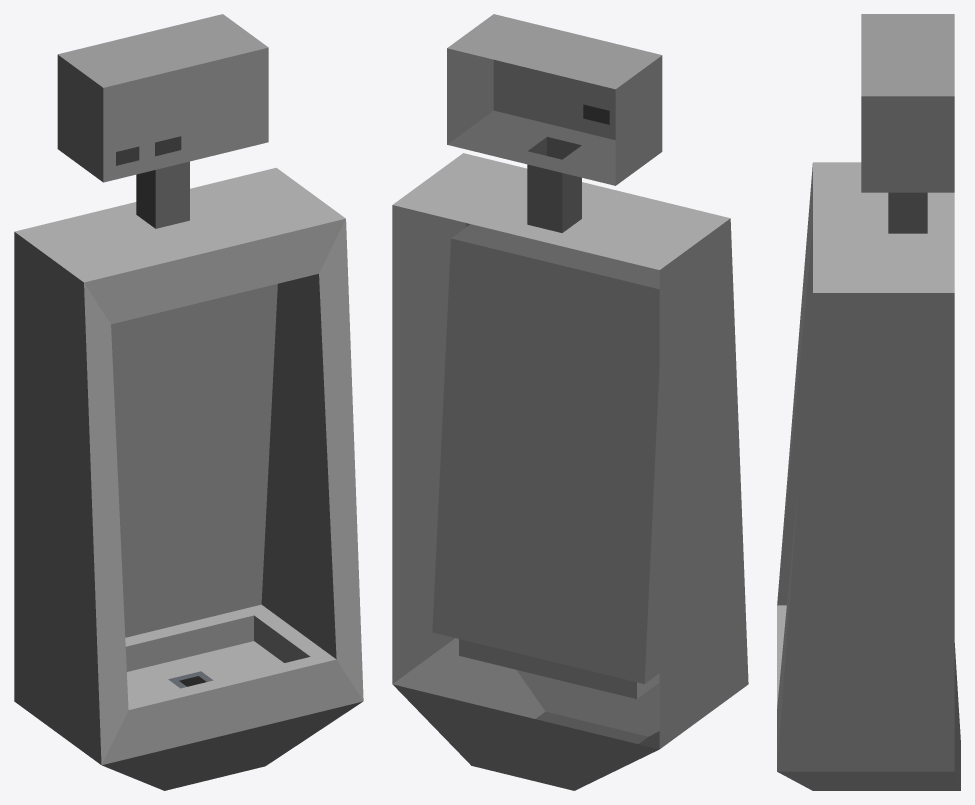
Rendered from SO_Urinal.fbx.
3 views of the same model, side by side, from view 1: azimuth 30°, elevation 25°; view 2: azimuth 150°, elevation 25°; view 3: azimuth 270°, elevation 25° (orthographic).
Parts seen in each view (by area): view 1: SO_Urinal; view 2: SO_Urinal; view 3: SO_Urinal.
Part boxes in pixels (x1,y1,x2,y2): SO_Urinal: [14, 14, 363, 790]; SO_Urinal: [392, 14, 748, 790]; SO_Urinal: [777, 14, 960, 790].
Bounding box in the file's own units: 0.8007 × 2.03 × 0.4771.
